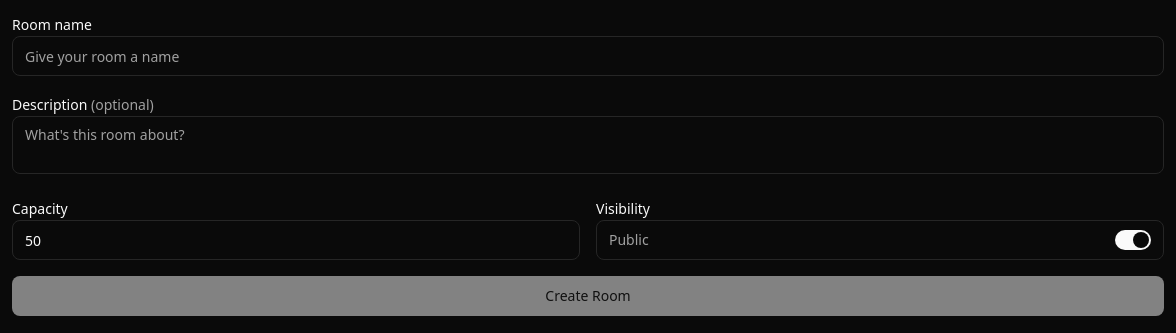
CreateRoomForm › enables submit when name is provided
Type "My Room" into the field labelled "Room name".
click(588, 56); type("My Room")  # box [12, 36, 1164, 76]
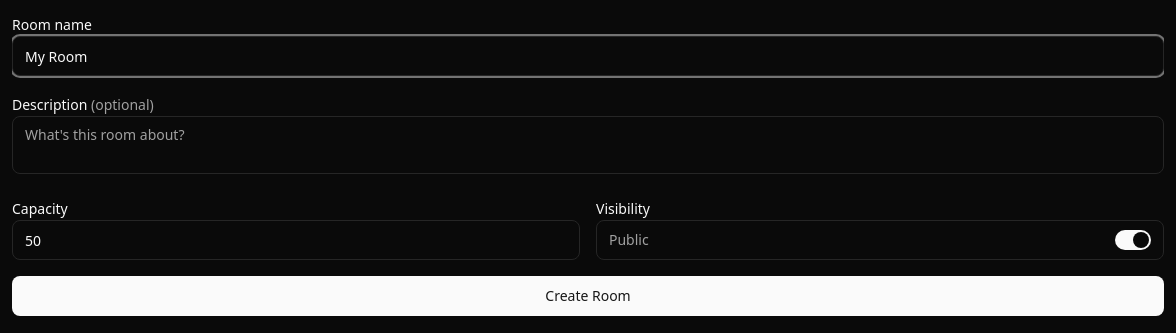
Now the button "Create Room" is enabled, box [12, 276, 1164, 316]
